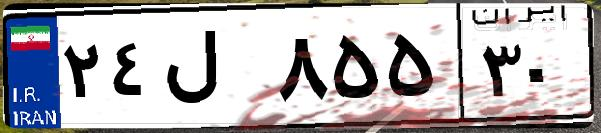0: (525, 38, 570, 115)
2: (57, 26, 110, 100)
3: (475, 38, 525, 113)
4: (110, 28, 158, 98)
5: (385, 28, 445, 110), (330, 28, 385, 110)
8: (270, 28, 330, 110)
ل: (158, 20, 270, 120)
